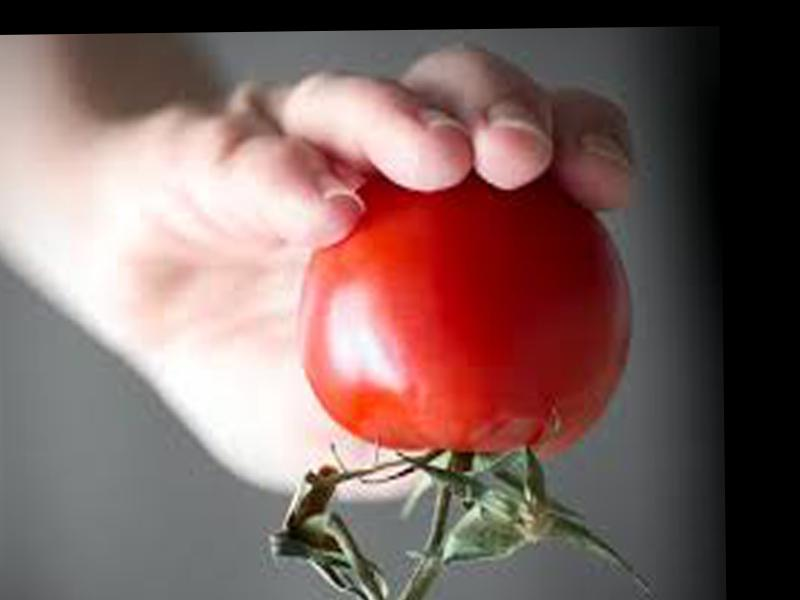Tomato: (298, 170, 633, 466)
